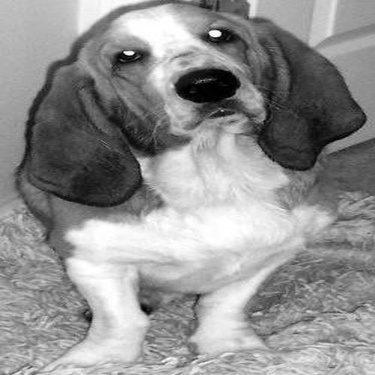dog: (9, 1, 369, 369)
